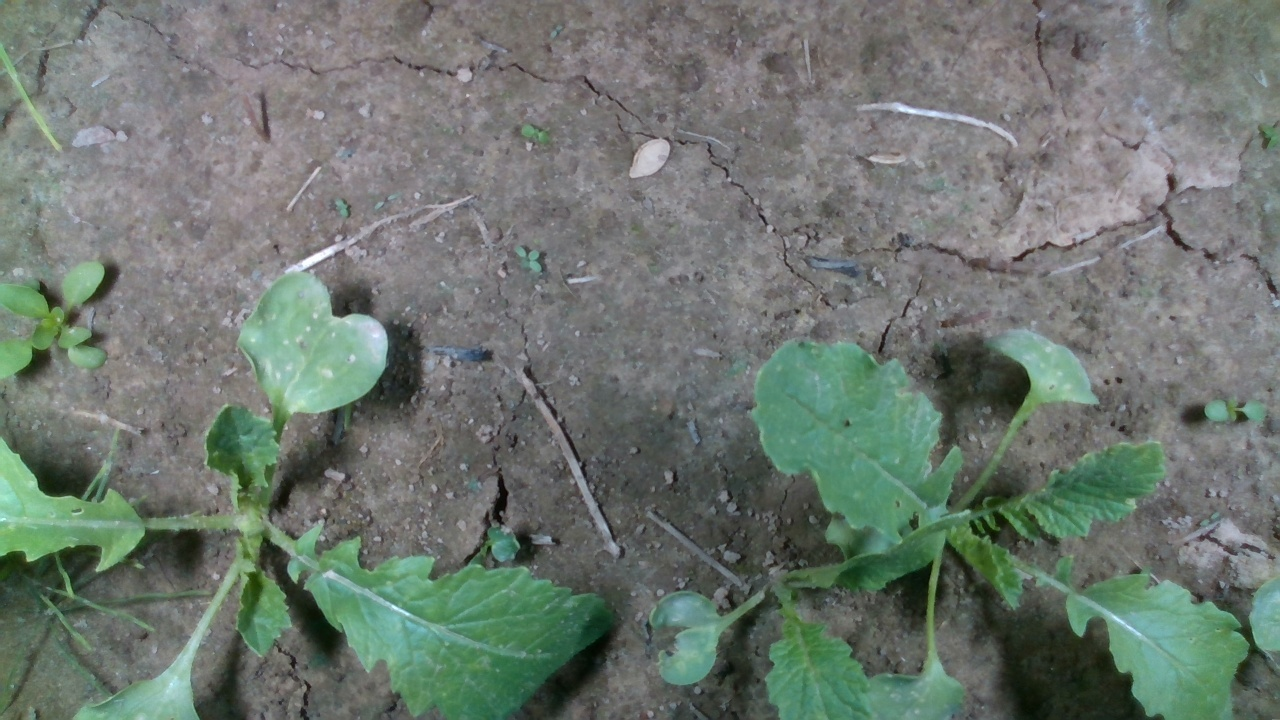weed: (1201, 397, 1267, 425), (512, 243, 542, 274), (520, 123, 552, 144), (333, 197, 351, 218)
